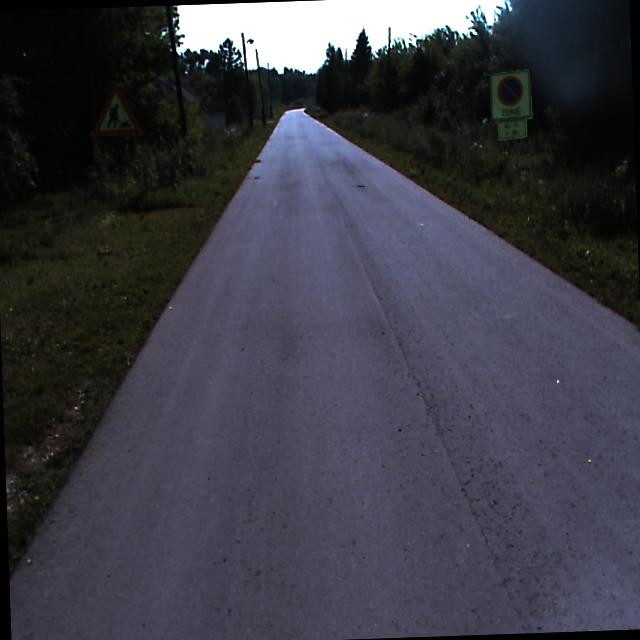road: (9, 110, 640, 640)
